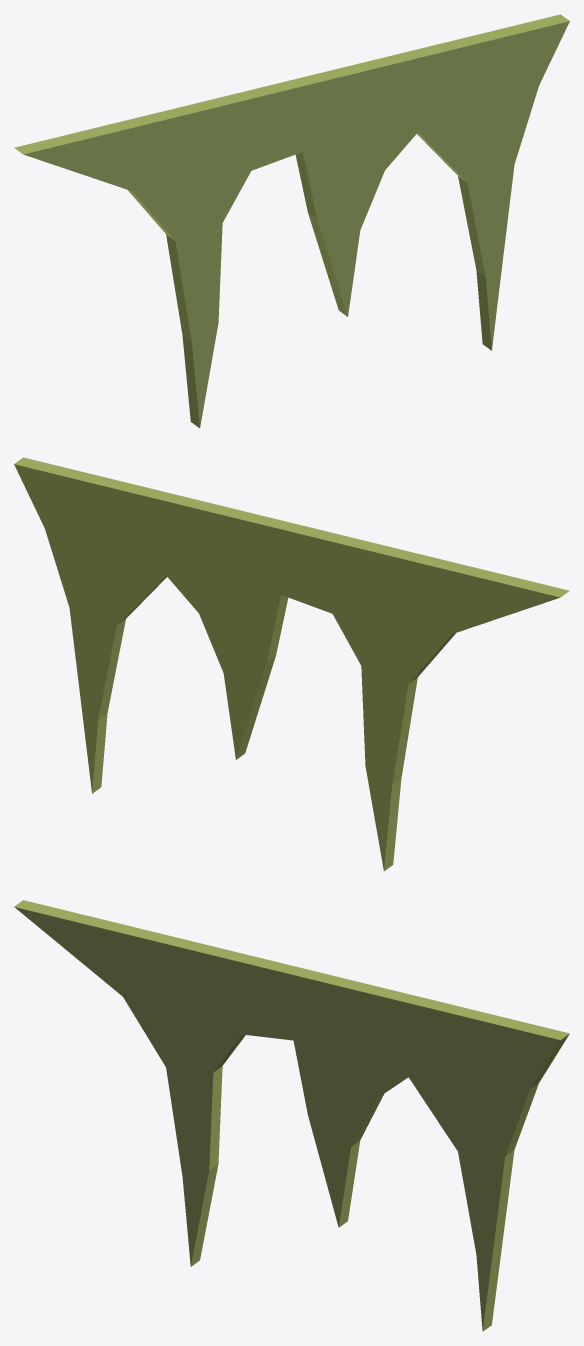
The model's file is Wh_Moss_02.fbx.
The picture shows the model from 3 angles, top to bottom: view 1: azimuth 30°, elevation 25°; view 2: azimuth 150°, elevation 25°; view 3: azimuth 330°, elevation 25°; orthographic projection.
Parts seen in each view (by area): view 1: Plane.594; view 2: Plane.594; view 3: Plane.594.
Part boxes in pixels (x1,y1,x2,y2): Plane.594: (14,14,569,428); Plane.594: (14,457,569,871); Plane.594: (14,900,569,1331).
Bounding box in the file's own units: 125 × 69.2 × 3.67.
